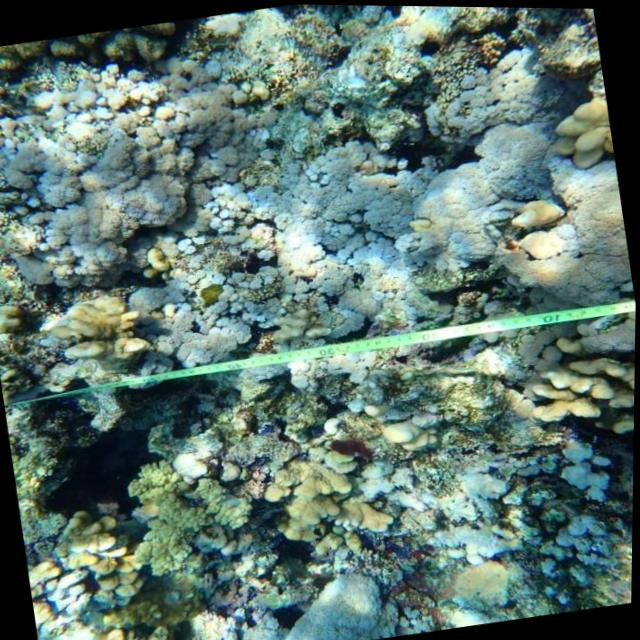Bleached Coral: (199, 110, 512, 354), (0, 59, 204, 308), (466, 37, 637, 311), (424, 429, 635, 604), (38, 285, 213, 390), (27, 544, 144, 640), (164, 425, 237, 491)
